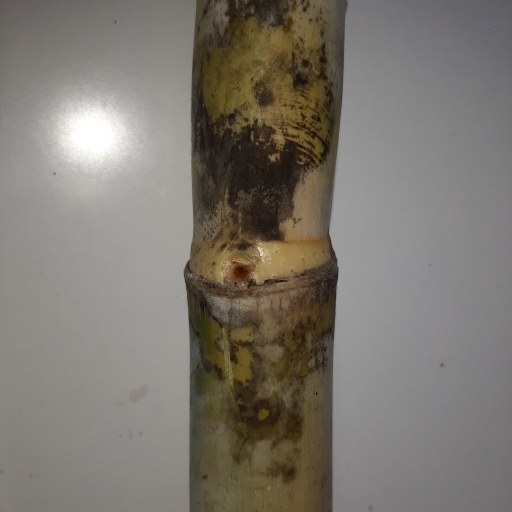Damage_Bud: (227, 262, 252, 286)
